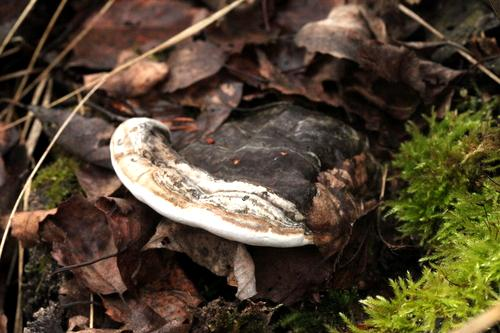Ganoderma - Fruit Body: (111, 119, 323, 249)
